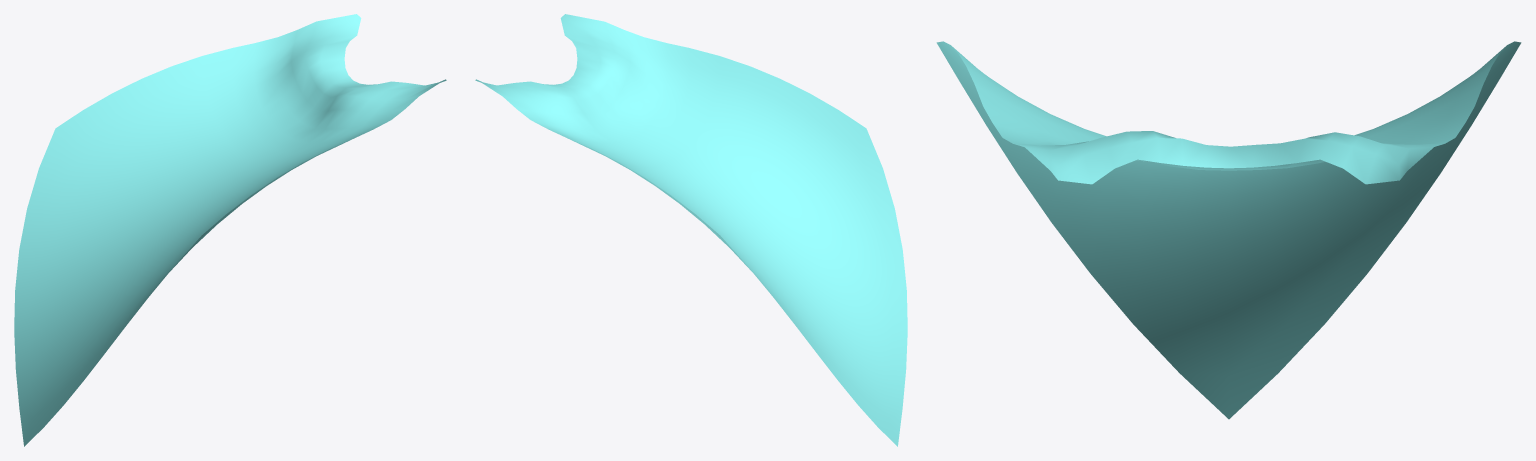
File: Unit_Cloth_Front.FBX
The picture shows the model from 3 angles, left to right: view 1: azimuth 30°, elevation 25°; view 2: azimuth 150°, elevation 25°; view 3: azimuth 270°, elevation 25°; orthographic projection. The views are drawn at different scales.
Parts seen in each view (by area): view 1: Unit_Cloth_Front; view 2: Unit_Cloth_Front; view 3: Unit_Cloth_Front.
Boxes of the visible parts, box(x1,y1,x2,y2) form: Unit_Cloth_Front: box(14, 14, 446, 446); Unit_Cloth_Front: box(475, 14, 907, 446); Unit_Cloth_Front: box(936, 41, 1521, 419).
Size of the model in its own units: 55.84 by 43.3 by 37.24.
